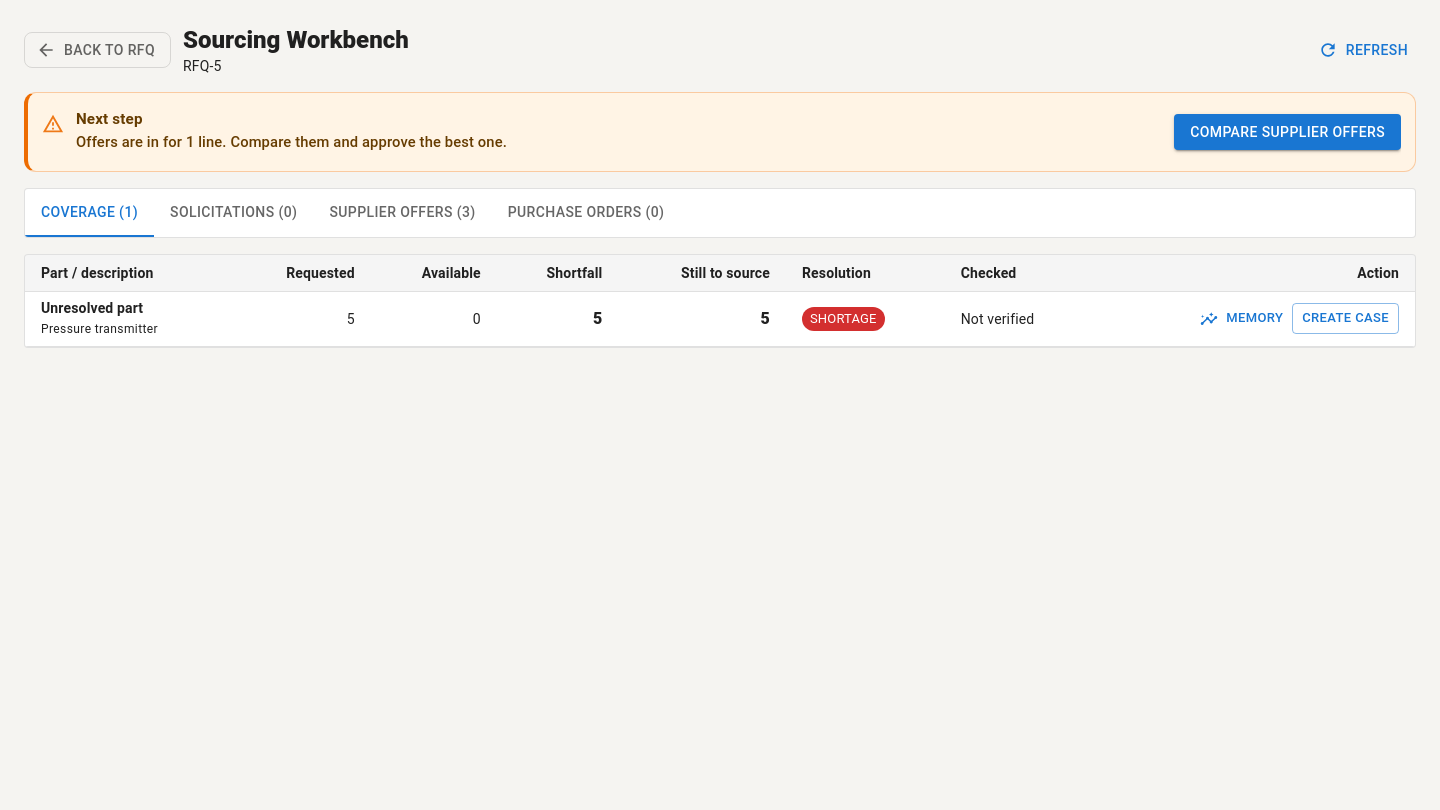
the supplier comparison table › keeps an awardable offer with a missing value visibly awardable
This screenshot has width=1440, height=810.
Click the tab "Supplier offers (3)".
click(402, 213)  # box [313,189,492,237]
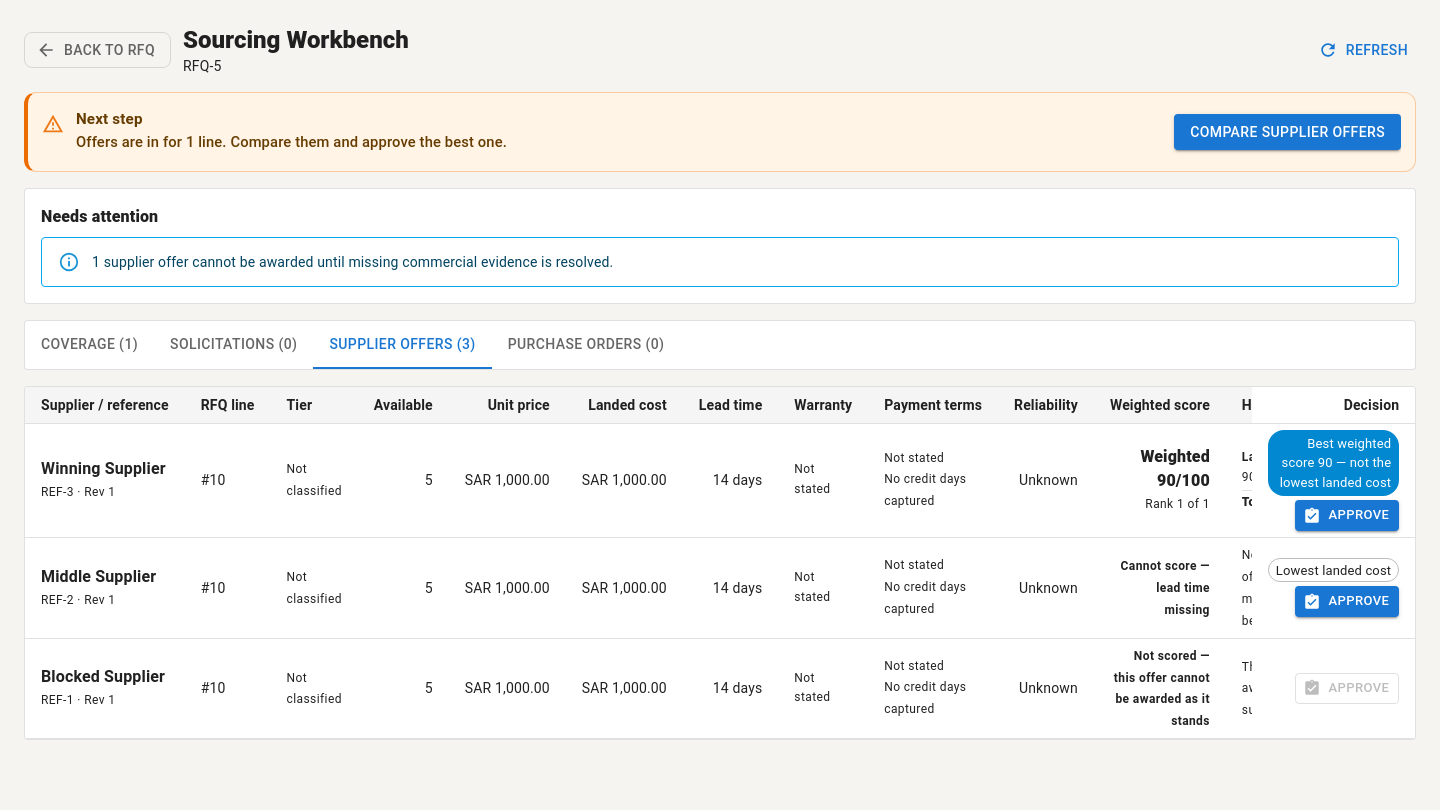
Now the text "Middle Supplier" shows "Cannot score — lead time missing", box [1121,559,1210,617]
Now the text "can still be awarded" is shown, box [1242,548,1400,628]
Now the button "Approve" in the row of "REF-2" is enabled, box [1294,586,1399,617]
